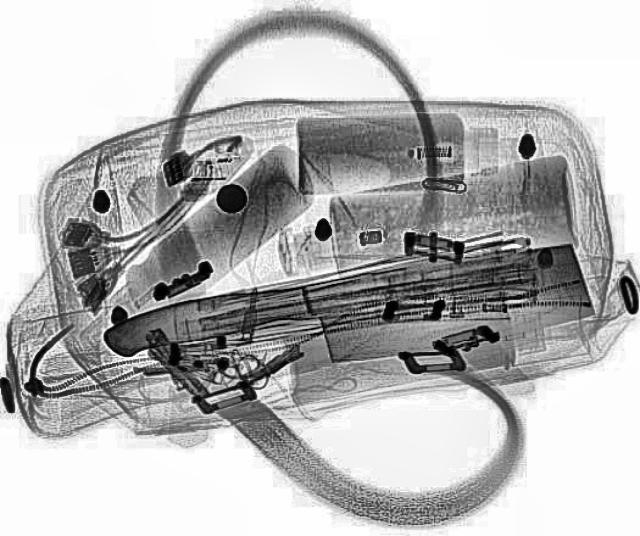Knife: (96, 237, 596, 393)
